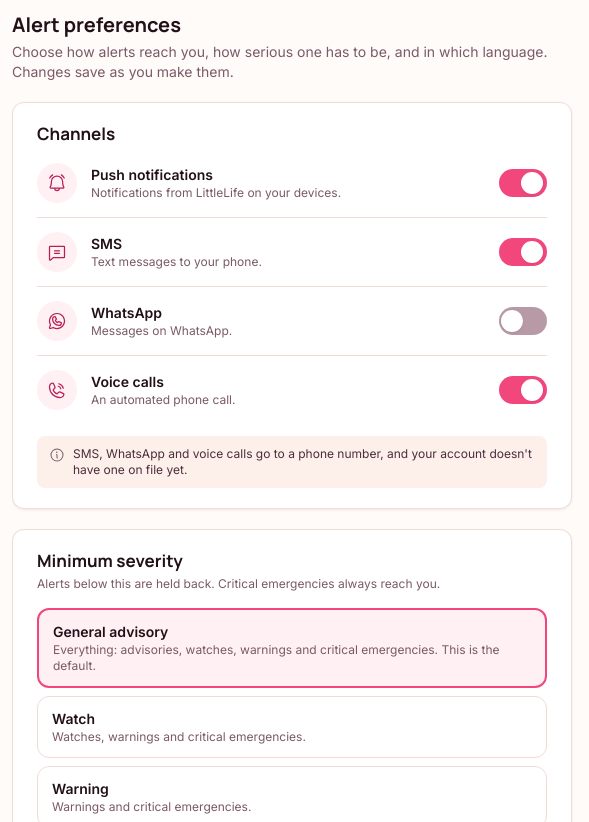
Test: AlertPreferencesPage › saving as you go › sends ONLY the field that changed, then says "All changes saved"
What coordinates should you click on to do the following:
click the switch named "WhatsApp" in the row of "Messages on WhatsApp."
I would click on:
 (523, 321)
Its box is [499,307,547,335].
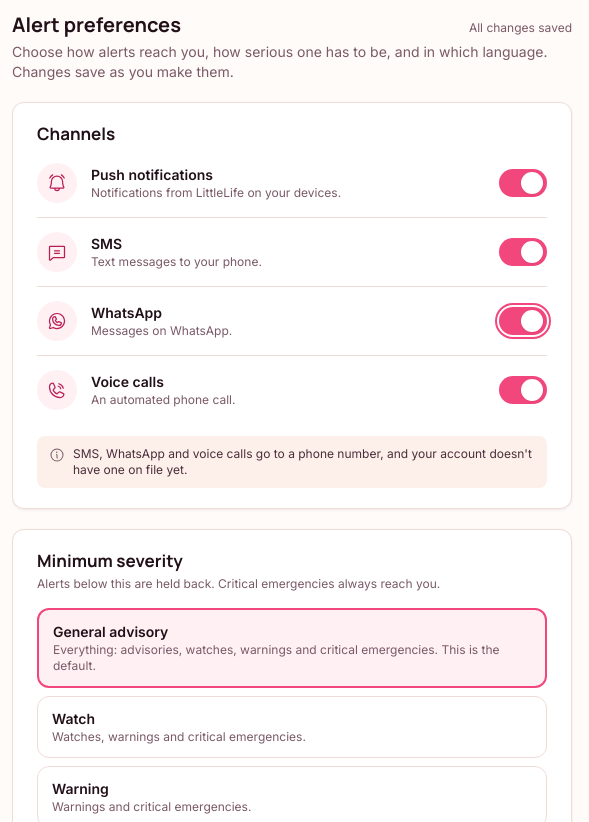
Expected: the text "All changes saved" is shown, [469,20,572,36]
